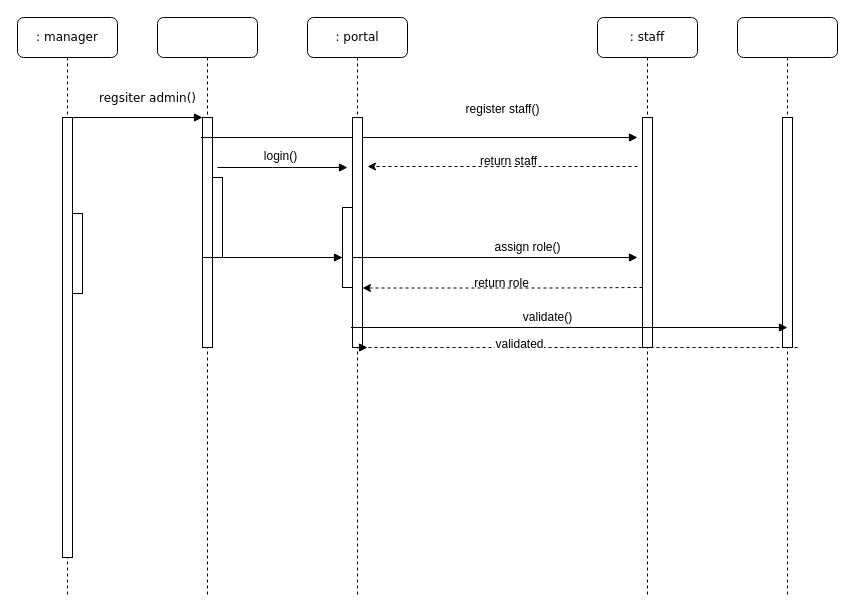
Some shapes in this 855 by 615 pixel diagram are drawn without their labels. The centre of each missing label's shape, as x and y in pixels:
": admin" goes at point 207,307.
": Validation" goes at point 787,307.
